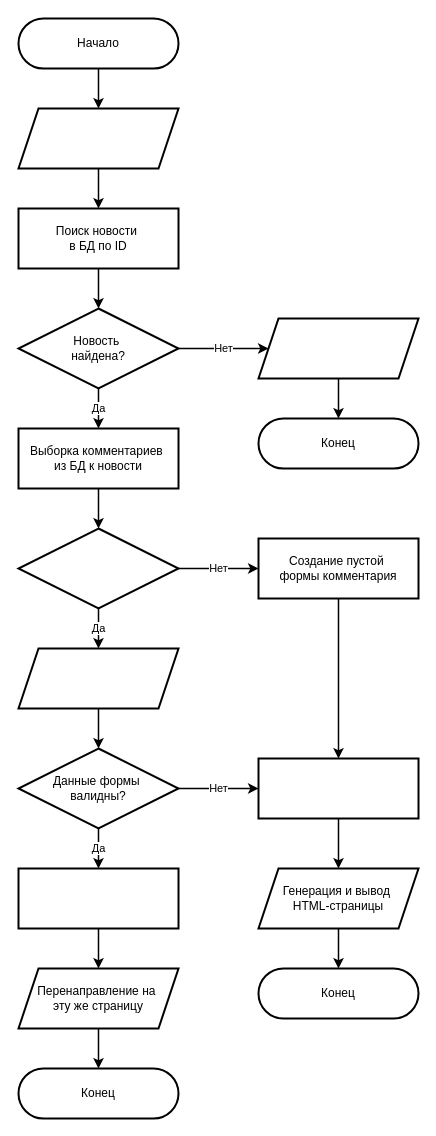
The diagram is 436 pixels wide and 1136 high, and some of its shapes have lost their labels. Here are the shapes that lost their labels. From the top down, the centre of each, then its label:
At pixel 98 138: "Запрос страницы новости по ID".
At pixel 338 348: "Вывод ошибки 404 (Новость не найдена)".
At pixel 98 568: "Метод запроса == POST?".
At pixel 98 678: "Получение данных из формы".
At pixel 338 788: "Формирование контекста (новость, комменты, форма)".
At pixel 98 898: "Привязка author и post, сохранение в БД".
